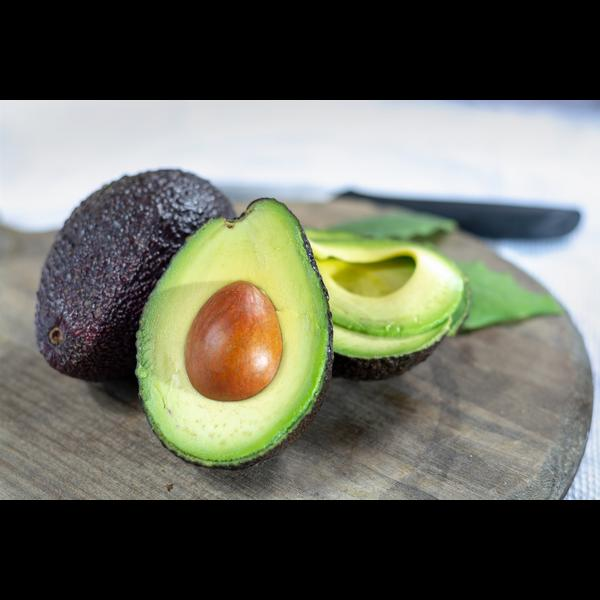ripe: (35, 169, 235, 382)
